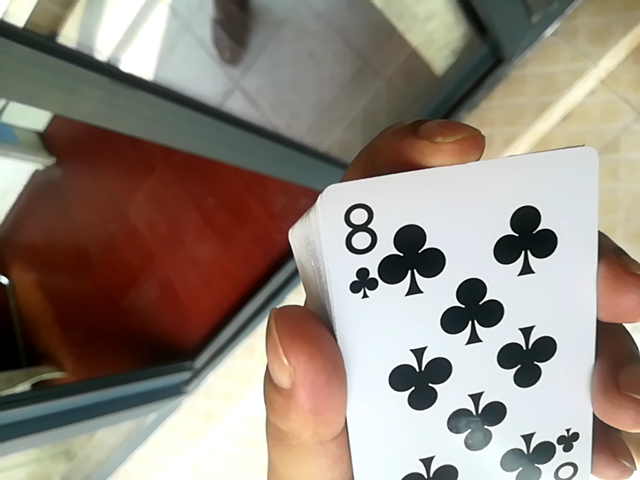mh 8: (291, 149, 606, 478)
